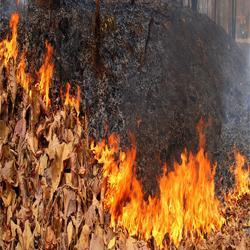fire: (164, 164, 218, 235), (108, 156, 139, 225), (40, 61, 51, 98), (65, 89, 78, 114)
